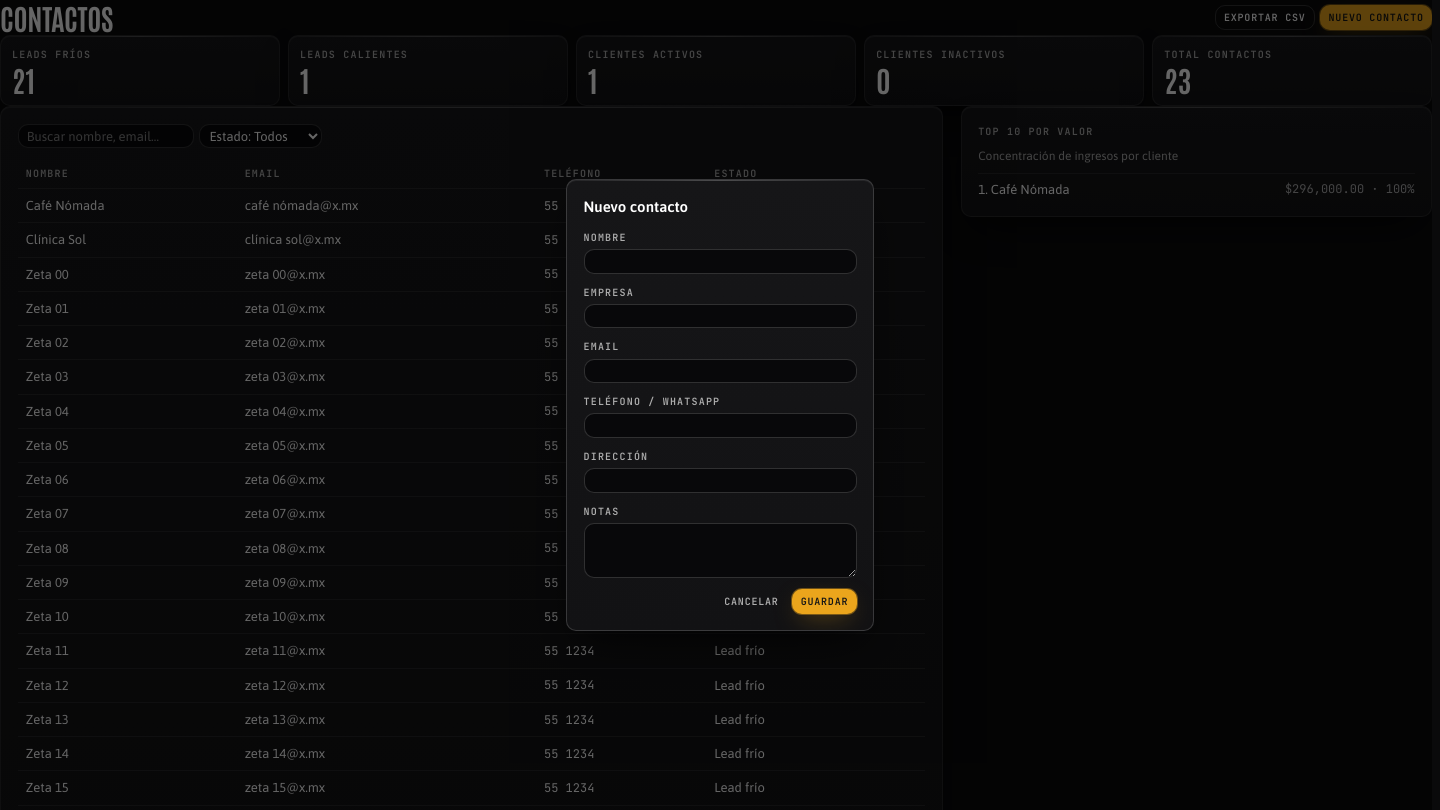
Test: Contactos › opens the form from ?nuevo, then drops the flag from the address without a new entry
Click the button "Cancelar". click: (751, 602)
box: [716,589,787,614]
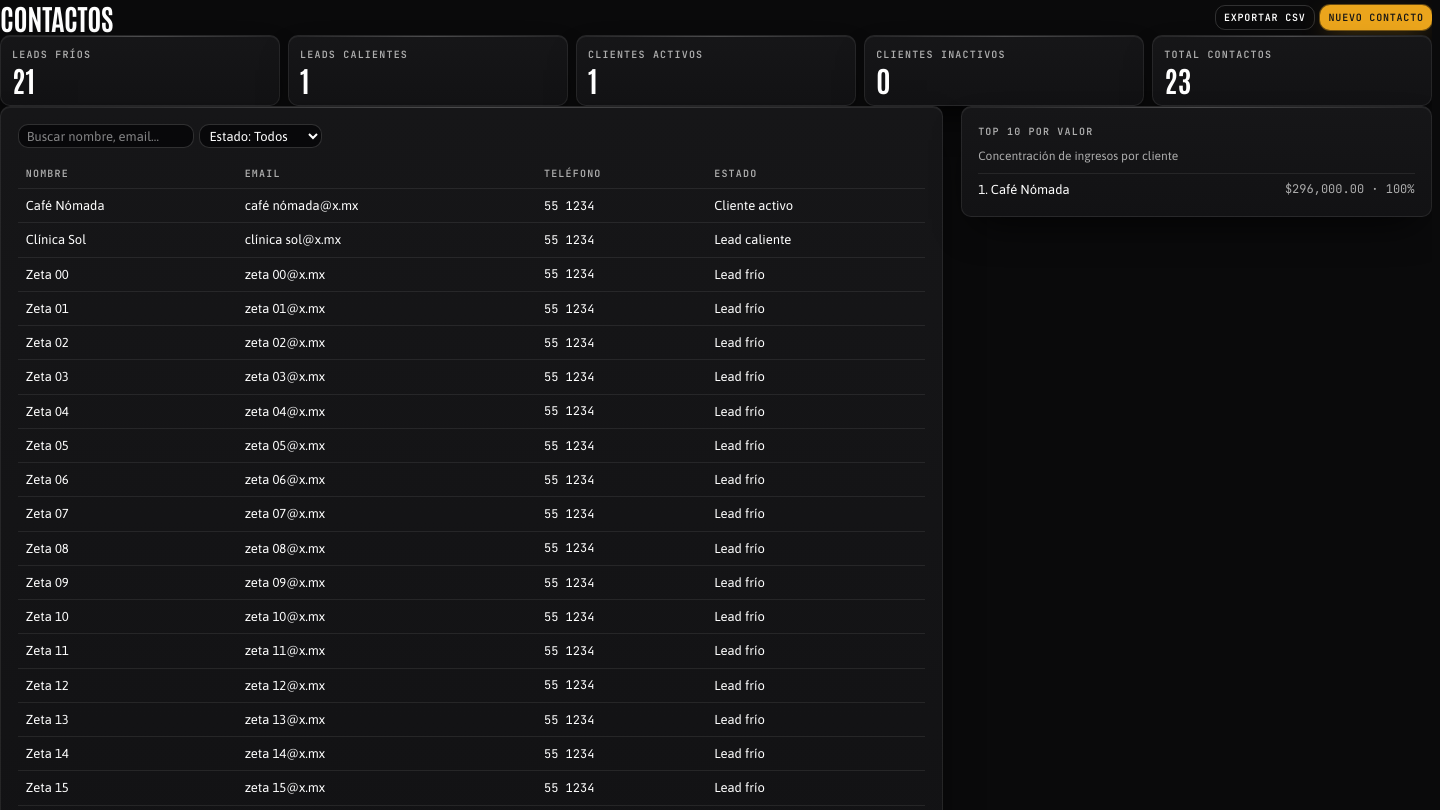
Expected: the dialog is gone
